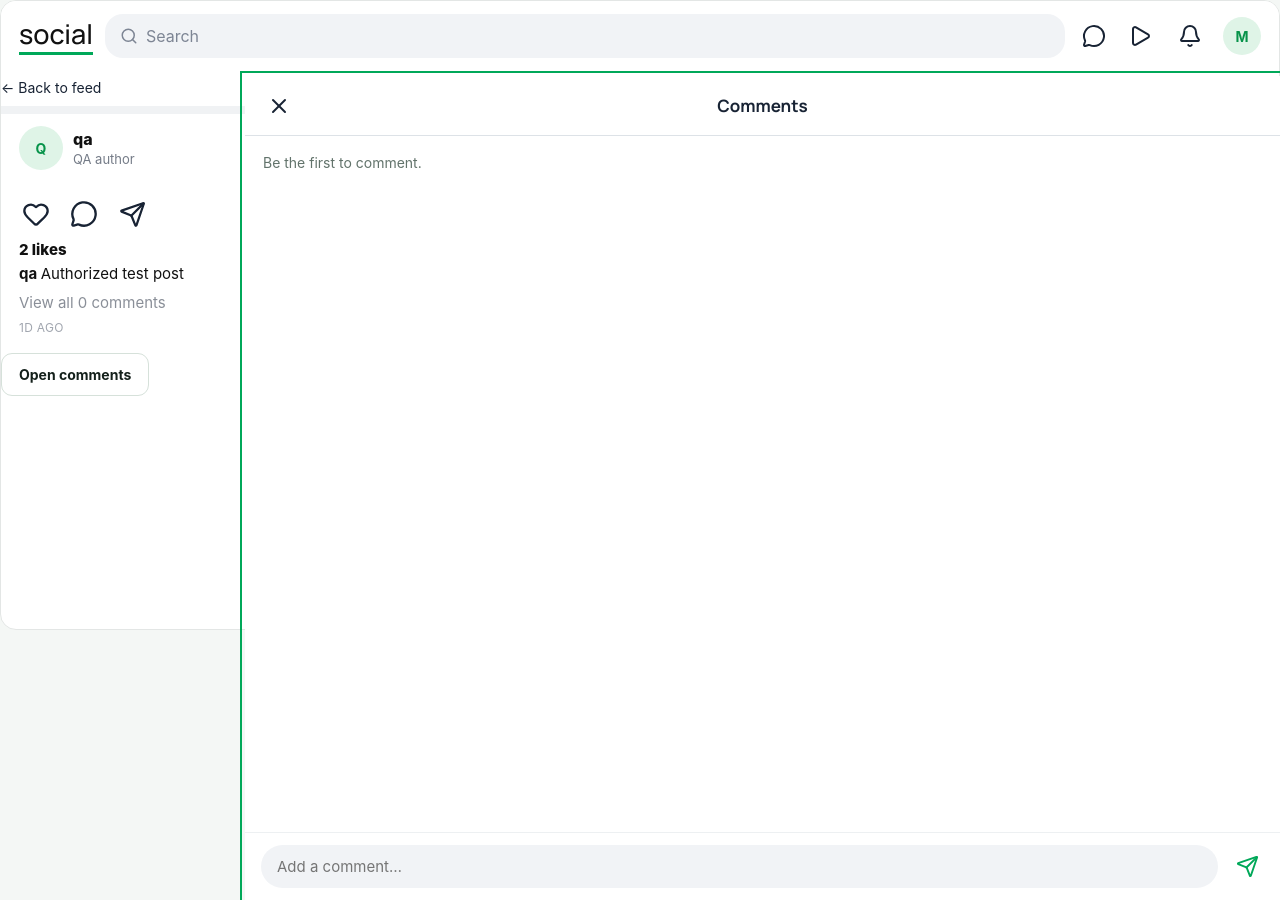
Social preserves existing personal boundaries › reopens comments on the same post after closing the dialog
What coordinates should you click on to do the following:
click the button named "Close comments"
I would click on:
 (279, 106)
Its box is 262,86 -> 296,126.
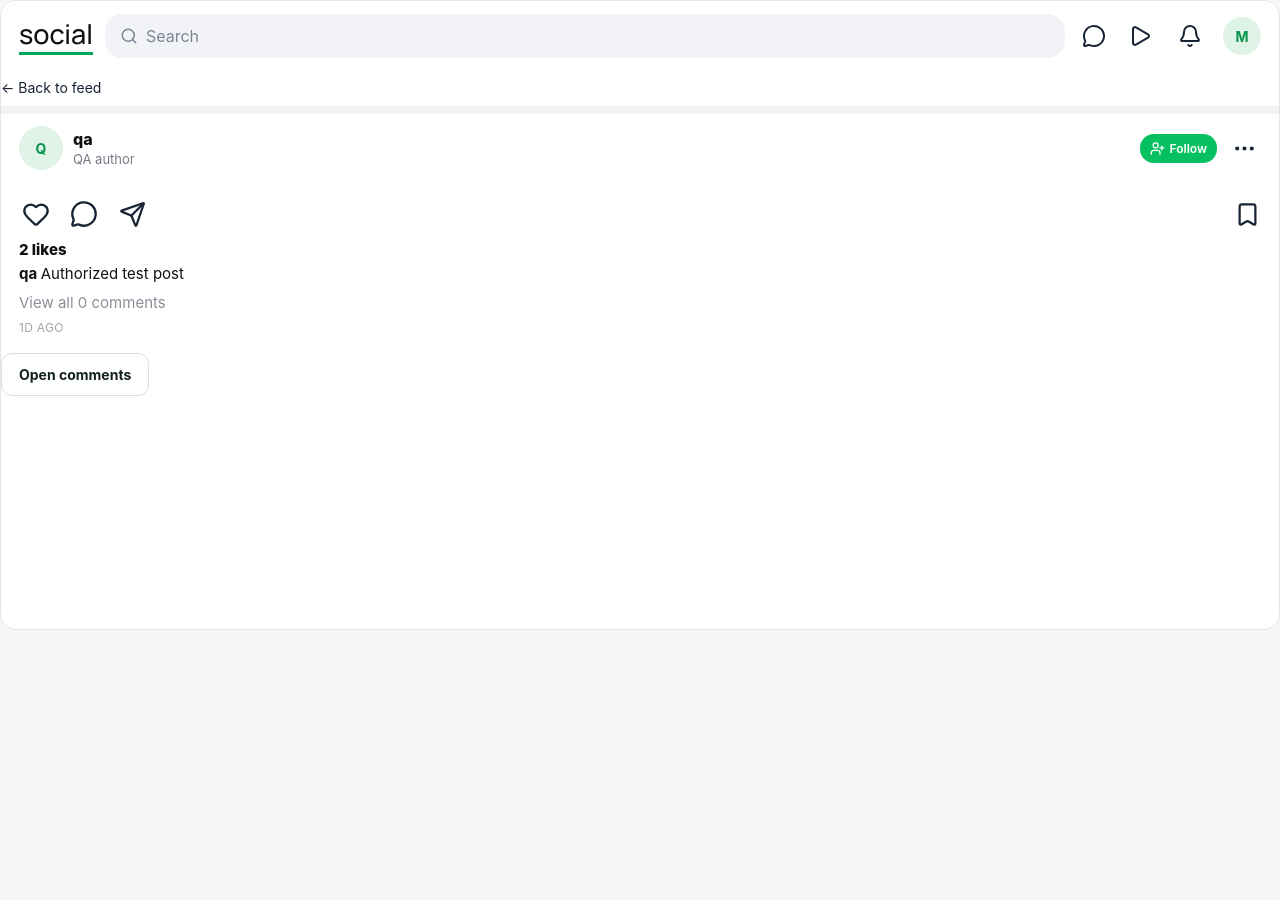
What coordinates should you click on to do the following:
click the link named "Comments · 0"
I would click on:
 (84, 214)
Its box is 70,200 -> 98,228.
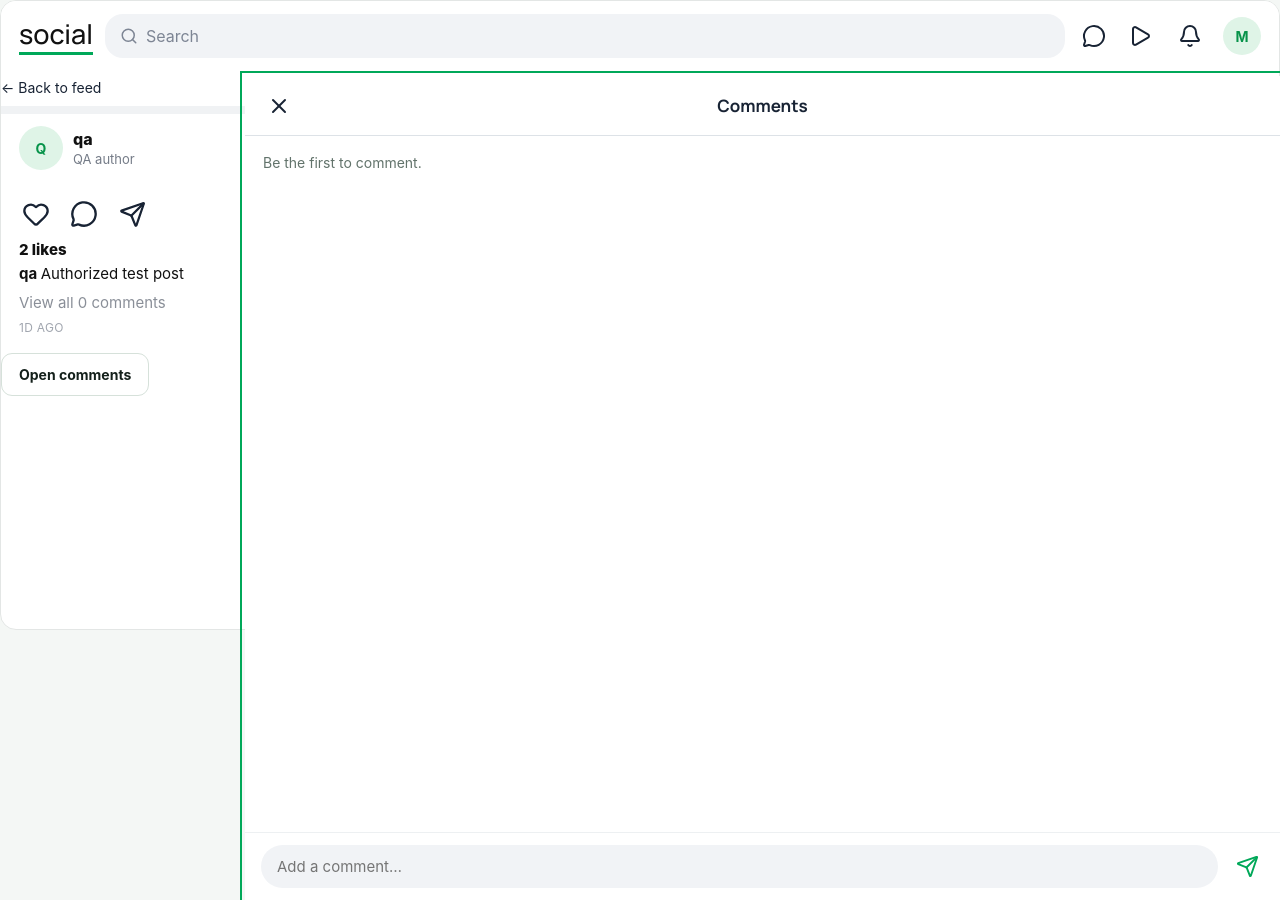
Now the dialog "Comments" is shown
